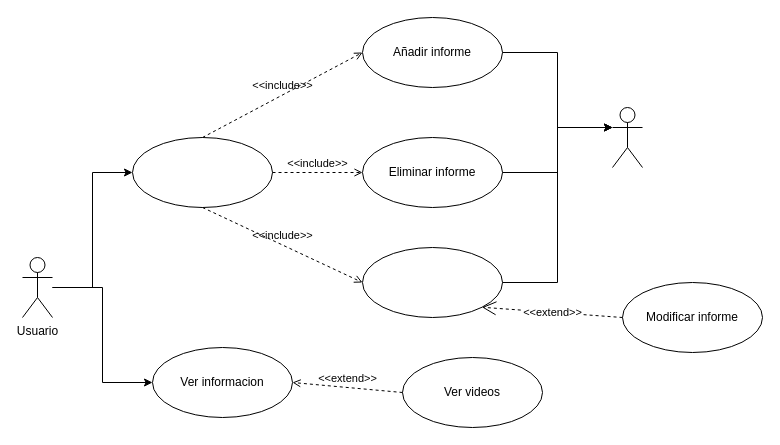
Some shapes in this 780 by 445 pixel diagram are drawn without their labels. The shapes that lost their labels are listed below. From the top down, each one's centre as x and y in pixels, then its label:
pixel 627 137: Base de datos
pixel 202 172: Iniciar sesion
pixel 432 282: Consultar informe
